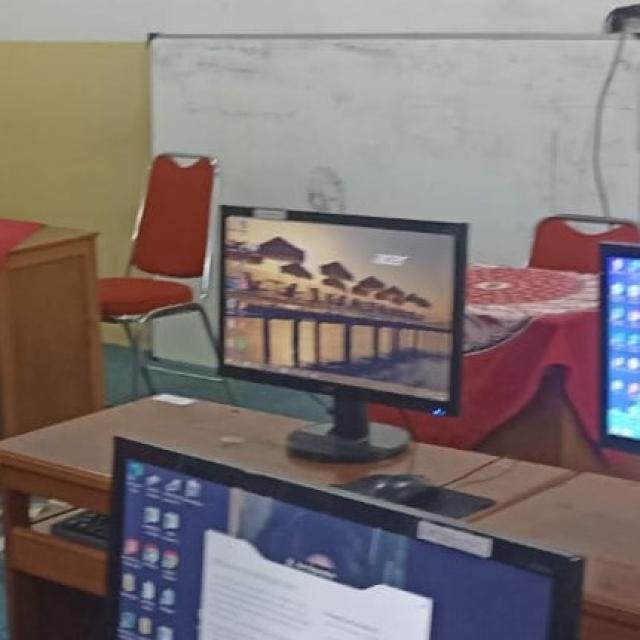onscreen: (110, 438, 584, 640), (222, 207, 466, 412), (601, 244, 640, 451)
